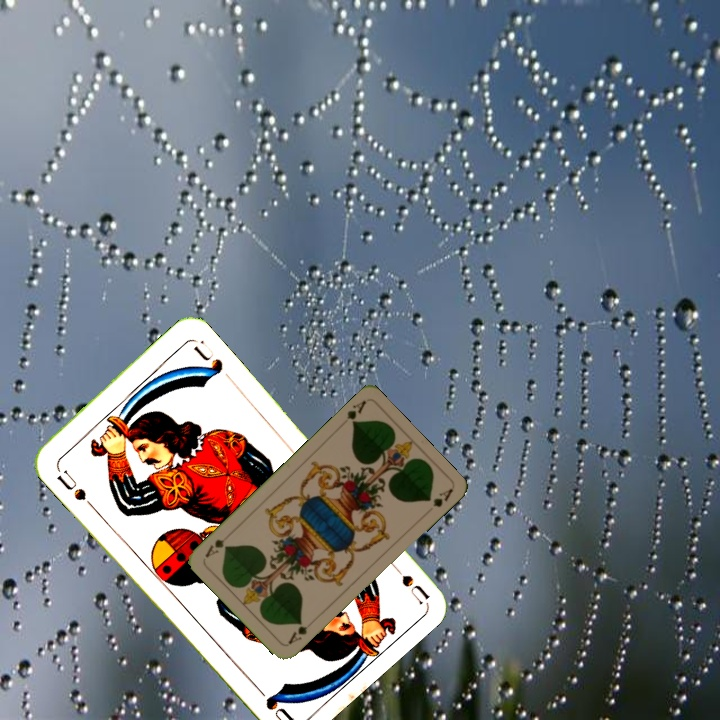GA: (284, 616, 317, 647), (342, 396, 368, 428)
SU: (383, 555, 431, 606), (52, 461, 89, 504)
